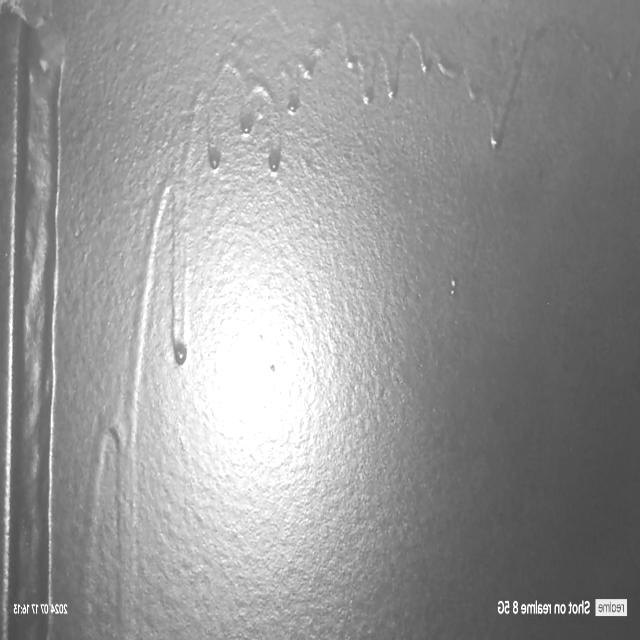paint drips: (202, 11, 635, 180), (74, 77, 201, 640)
